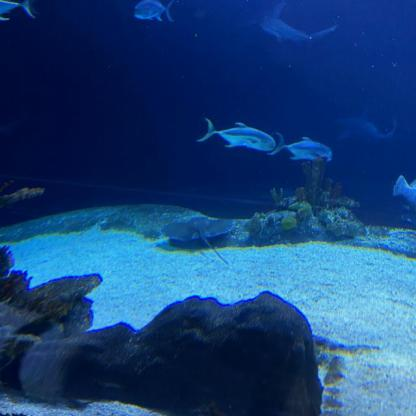fish: (196, 116, 277, 152), (266, 133, 334, 163), (132, 0, 176, 23), (394, 175, 416, 220), (0, 0, 34, 22)
shark: (246, 1, 335, 44), (326, 107, 396, 142)
stingray: (160, 216, 235, 242)
